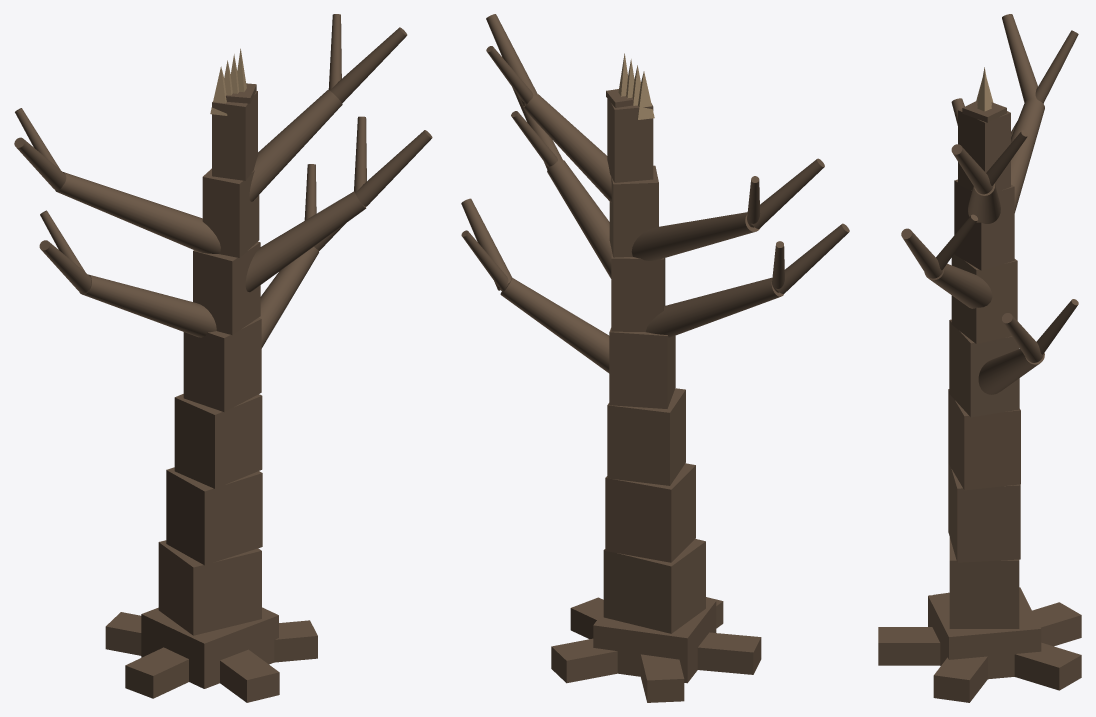
The model's file is FSA_ENV_Outdoor_Tree_01_Forked.glb.
3 renders of one model, left to right at view 1: azimuth 30°, elevation 25°; view 2: azimuth 150°, elevation 25°; view 3: azimuth 270°, elevation 25°, orthographic.
Visible parts, largest first — view 1: Trunk_1, Trunk_0, Trunk_2, Trunk_3, RootCore, Branch_3, Trunk_4, Trunk_5, Branch_2, Branch_1, Trunk_6, Branch_4 (+11 smaller); view 2: Trunk_0, Trunk_1, Trunk_2, Trunk_3, RootCore, Trunk_4, Branch_1, Trunk_6, Branch_0, Branch_3, Trunk_5, Branch_4 (+12 smaller); view 3: Trunk_1, Trunk_2, Trunk_0, RootCore, Trunk_3, Trunk_4, Trunk_5, Trunk_6, Root_0, Root_2, Root_1, Branch_3 (+14 smaller).
Boxes of the visible parts, box(x1,y1,x2,y2) form: Trunk_1: box(166, 467, 262, 565); Trunk_0: box(158, 540, 261, 635); Trunk_2: box(174, 394, 262, 488); Trunk_3: box(183, 317, 261, 411); RootCore: box(141, 607, 278, 688); Branch_3: box(55, 172, 220, 253); Trunk_4: box(193, 241, 260, 335); Trunk_5: box(202, 168, 259, 257); Branch_2: box(245, 191, 366, 292); Branch_1: box(79, 274, 216, 337); Trunk_6: box(212, 90, 257, 180); Branch_4: box(249, 90, 342, 201); Trunk_0: box(603, 539, 705, 633); Trunk_1: box(605, 463, 695, 562); Trunk_2: box(607, 388, 685, 485); Trunk_3: box(609, 328, 675, 408); RootCore: box(593, 599, 716, 683); Trunk_4: box(611, 252, 665, 331); Branch_1: box(646, 277, 783, 337); Trunk_6: box(607, 98, 653, 182); Branch_0: box(500, 277, 609, 373); Branch_3: box(631, 212, 759, 260); Trunk_5: box(609, 165, 658, 257); Branch_4: box(524, 94, 611, 202); Trunk_1: box(948, 463, 1020, 562); Trunk_2: box(948, 389, 1020, 490); Trunk_0: box(949, 537, 1019, 628); RootCore: box(928, 587, 1041, 679); Trunk_3: box(949, 319, 1019, 417); Trunk_4: box(951, 254, 1017, 343); Trunk_5: box(954, 179, 1014, 270); Trunk_6: box(958, 109, 1010, 191); Root_0: box(878, 627, 940, 665); Root_2: box(1014, 642, 1081, 690); Root_1: box(933, 656, 987, 702); Branch_3: box(1011, 98, 1044, 212).
Size of the model in its own units: 3.37 by 5.32 by 1.62.
